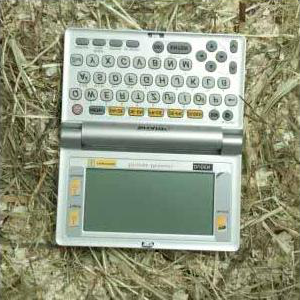badge: (55, 27, 241, 255)
